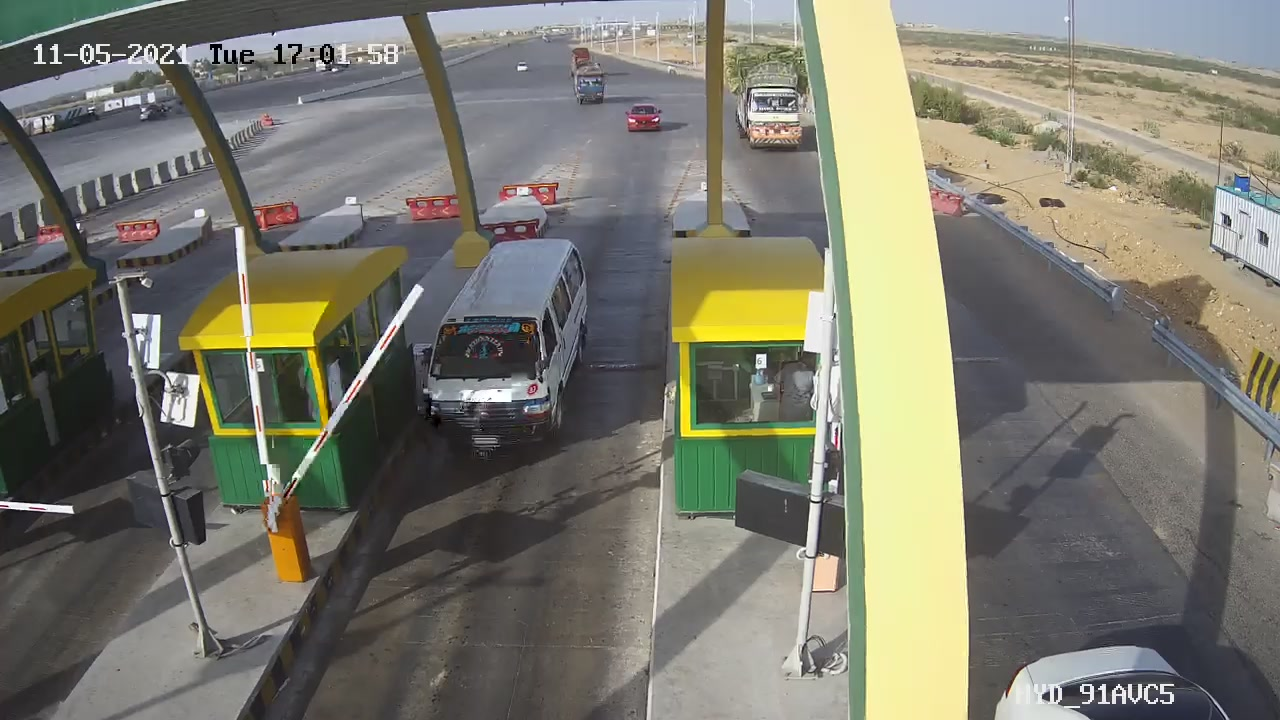F2: (407, 227, 601, 470)
